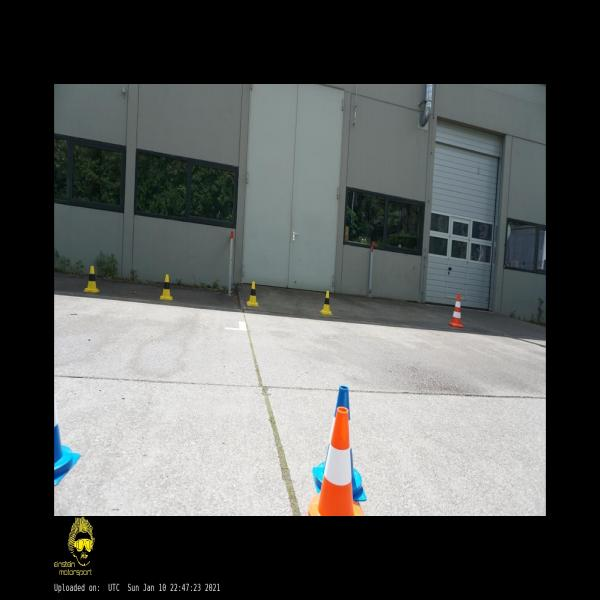blue_cone: (312, 386, 367, 502), (54, 393, 82, 486)
large_orange_cone: (448, 294, 465, 328)
orange_cone: (308, 408, 364, 516)
yellow_cone: (84, 266, 100, 292), (159, 274, 173, 300), (246, 281, 258, 306), (320, 291, 332, 314)
